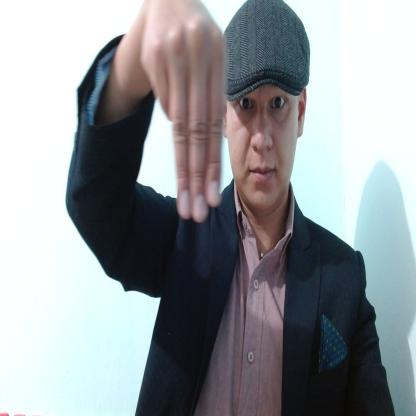M: (139, 1, 228, 225)
